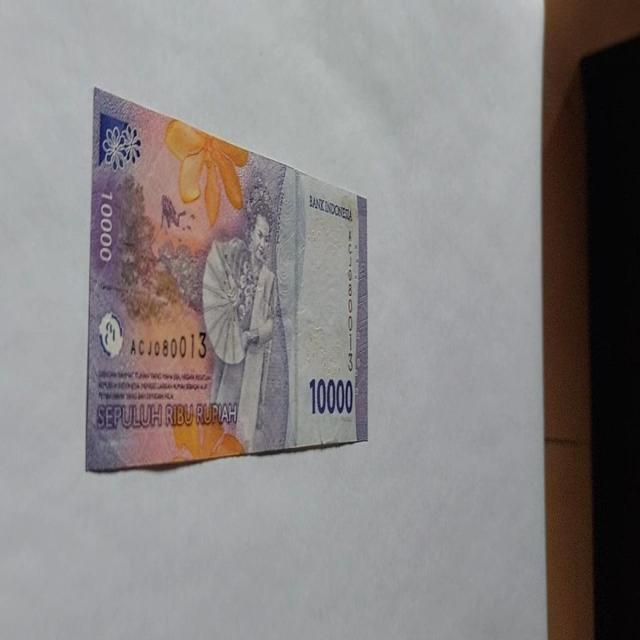Kertas: (84, 85, 368, 473), (308, 375, 354, 416)
